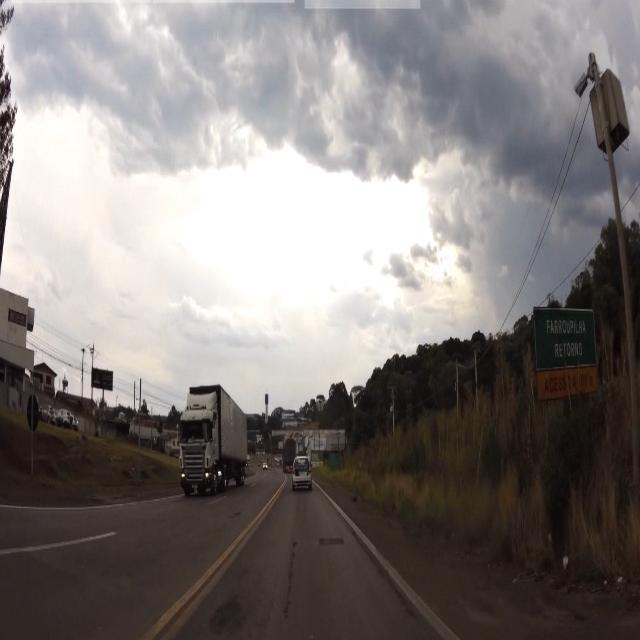I-4: (535, 306, 598, 368)
